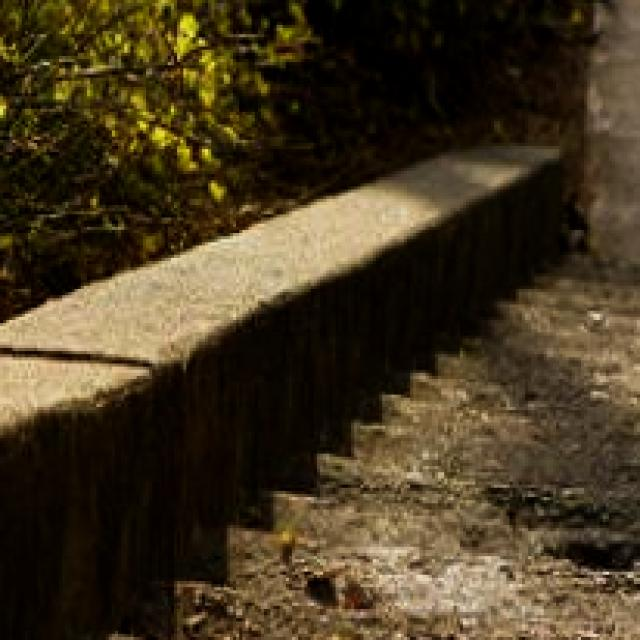upstair: (299, 361, 640, 632)
